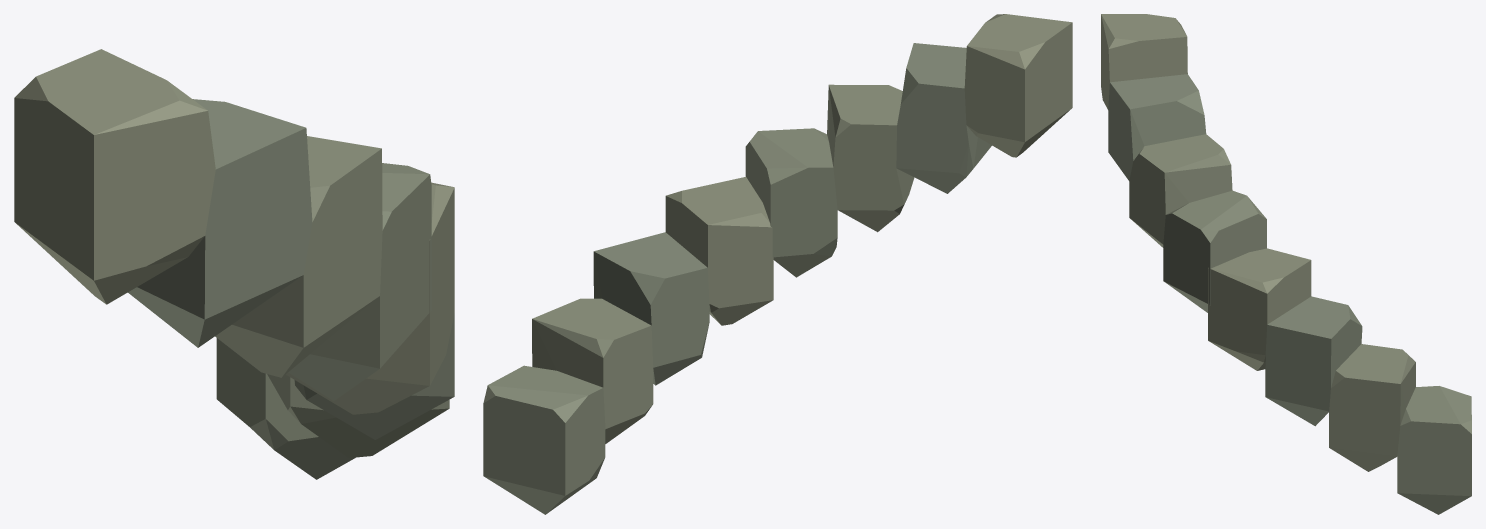
File: stair_spiral_wide_railing_inside_short_clock.fbx
3 renders of one model, left to right at view 1: azimuth 30°, elevation 25°; view 2: azimuth 150°, elevation 25°; view 3: azimuth 270°, elevation 25°, orthographic. The views are drawn at different scales.
Parts seen in each view (by area): view 1: stair_spiral_wide_railing_inside_short_clock; view 2: stair_spiral_wide_railing_inside_short_clock; view 3: stair_spiral_wide_railing_inside_short_clock.
Boxes of the visible parts, x1,y1,x2,y2 form: stair_spiral_wide_railing_inside_short_clock: [14, 49, 454, 479]; stair_spiral_wide_railing_inside_short_clock: [483, 14, 1072, 514]; stair_spiral_wide_railing_inside_short_clock: [1101, 14, 1471, 514].
Size of the model in its own units: 229 by 250 by 231.
